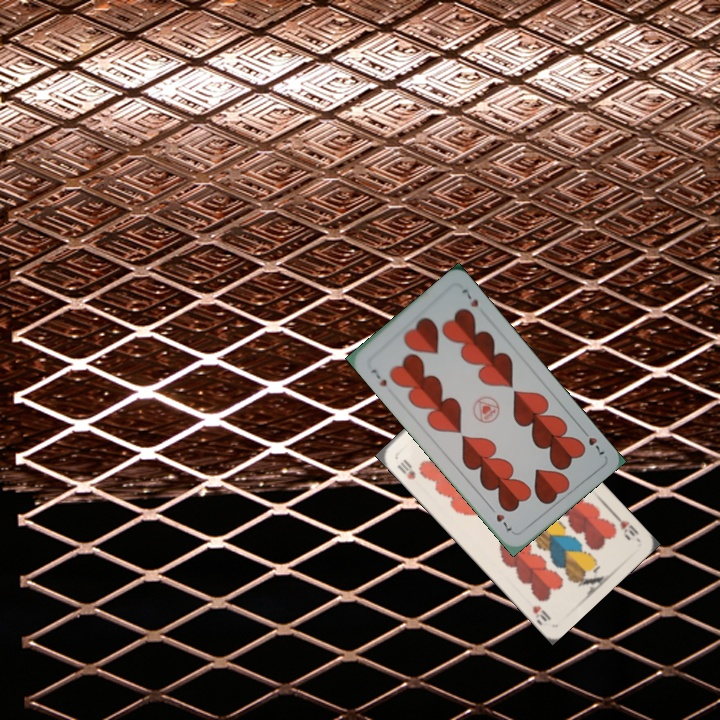H10: (610, 510, 642, 543), (393, 455, 418, 482)
H7: (577, 424, 608, 457), (367, 365, 389, 389)
